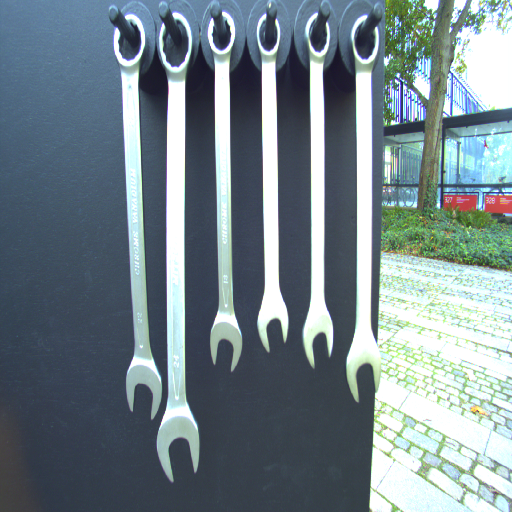bottom: (155, 410, 203, 487), (123, 355, 163, 421), (345, 337, 383, 404), (206, 312, 244, 375), (300, 307, 336, 370), (255, 296, 292, 354)
top: (155, 12, 192, 78), (110, 15, 149, 76), (349, 13, 379, 69), (254, 9, 286, 61), (207, 9, 238, 59), (304, 12, 332, 62)
